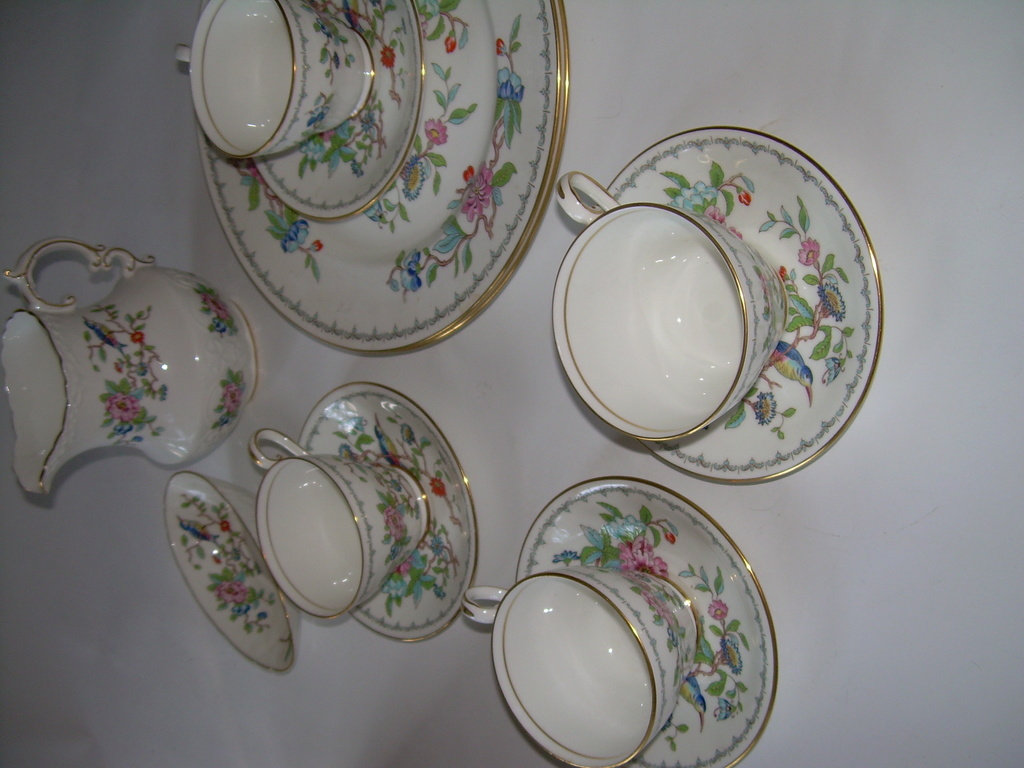plate: (464, 480, 772, 752)
